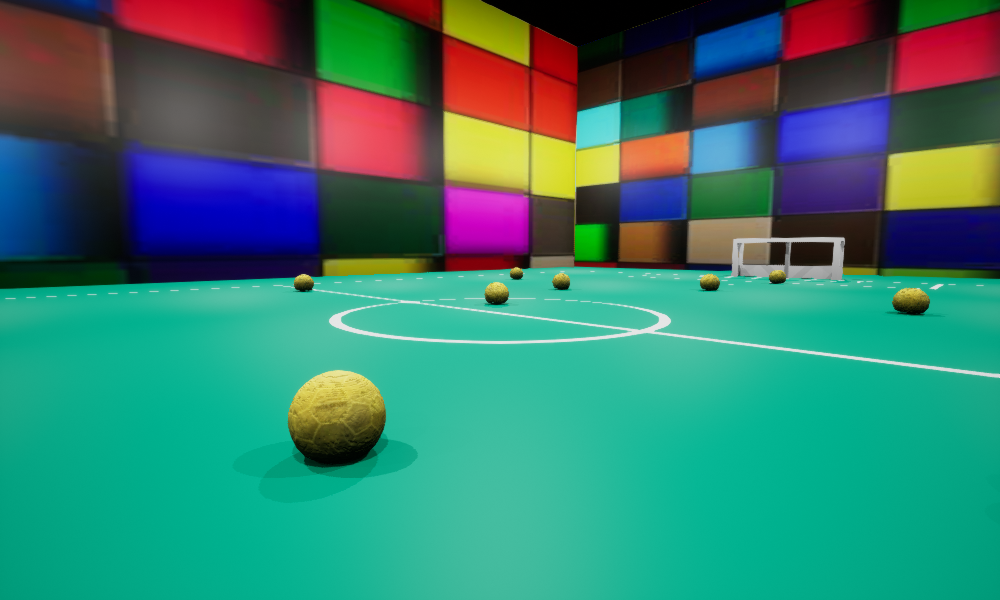b: (288, 370, 385, 463), (892, 288, 929, 314), (484, 282, 508, 302), (294, 274, 313, 290), (700, 274, 719, 290), (552, 273, 569, 289), (769, 270, 785, 282), (510, 267, 522, 278)
g: (731, 237, 844, 279)
